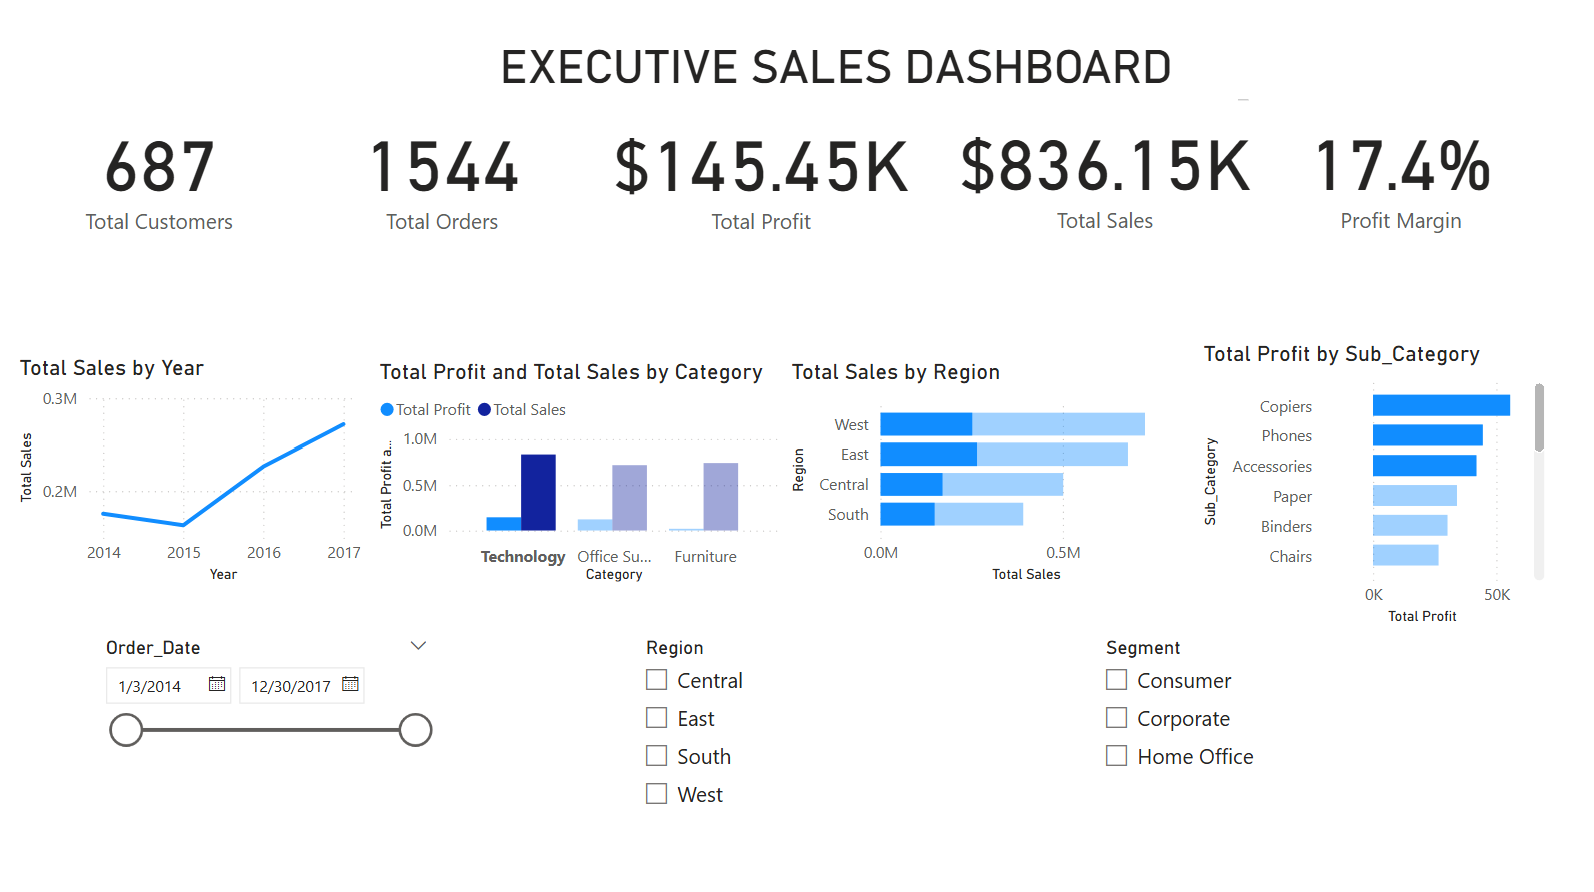

This screenshot's page, from the dashboard's own definition file:
{"tool":"powerbi","page":{"name":"Executive Sales","canvas":[1280,720],"ordinal":0},"visuals":[{"type":"card","fields":{"Values":["Superstore.Total Customers"]},"box":[10.7,65.8,223.5,150],"z":0},{"type":"card","fields":{"Values":["Superstore.Total Orders"]},"box":[234.3,65.8,209.8,150],"z":1},{"type":"card","fields":{"Values":["Superstore.Total Profit"]},"box":[444,65.8,278.7,150],"z":2},{"type":"card","fields":{"Values":["Superstore.Total Sales"]},"box":[722.7,65.8,248,148.5],"z":3},{"type":"card","fields":{"Values":["Superstore.Profit Margin"]},"box":[961.5,65.8,223.5,148.5],"z":4},{"type":"lineChart","fields":{"Category":["Superstore.Order_Date.Variation.Date Hierarchy.Year","Superstore.Order_Date.Variation.Date Hierarchy.Quarter","Superstore.Order_Date.Variation.Date Hierarchy.Month","Superstore.Order_Date.Variation.Date Hierarchy.Day"],"Y":["Superstore.Total Sales"]},"box":[10.7,281.7,271,177.6],"z":5},{"type":"clusteredColumnChart","fields":{"Category":["Superstore.Category"],"Y":["Superstore.Total Profit","Superstore.Total Sales"]},"box":[286.3,284.8,315.4,174.5],"z":6},{"type":"barChart","fields":{"Category":["Superstore.Region"],"Y":["Superstore.Total Sales"]},"box":[601.7,284.8,315.4,174.5],"z":7},{"type":"barChart","fields":{"Category":["Superstore.Sub_Category"],"Y":["Superstore.Total Profit"]},"box":[917.1,271,271,220.5],"z":8},{"type":"slicer","fields":{"Values":["Superstore.Order_Date"]},"box":[68.9,491.5,271,177.6],"z":9},{"type":"slicer","fields":{"Values":["Superstore.Region"]},"box":[482.3,491.5,315.4,177.6],"z":10},{"type":"slicer","fields":{"Values":["Superstore.Segment"]},"box":[834.4,491.5,271,177.6],"z":11},{"type":"textbox","title":"EXECUTIVE SALES DASHBOARD","box":[320,39.8,641.5,52.1],"z":12}]}

Visuals, with their boxes in screenshot pixels (x1, y1, x2, y2), scaled from the page's 1280x720 canvas onto the 1594x892 screenshot:
card - Superstore.Total Customers: (left=13, top=82, right=292, bottom=267)
card - Superstore.Total Orders: (left=292, top=82, right=553, bottom=267)
card - Superstore.Total Profit: (left=553, top=82, right=900, bottom=267)
card - Superstore.Total Sales: (left=900, top=82, right=1209, bottom=265)
card - Superstore.Profit Margin: (left=1197, top=82, right=1476, bottom=265)
lineChart - Superstore.Order_Date.Variation.Date Hierarchy.Year x Superstore.Order_Date.Variation.Date Hierarchy.Quarter: (left=13, top=349, right=351, bottom=569)
clusteredColumnChart - Superstore.Category x Superstore.Total Profit: (left=357, top=353, right=749, bottom=569)
barChart - Superstore.Region x Superstore.Total Sales: (left=749, top=353, right=1142, bottom=569)
barChart - Superstore.Sub_Category x Superstore.Total Profit: (left=1142, top=336, right=1480, bottom=609)
slicer - Superstore.Order_Date: (left=86, top=609, right=423, bottom=829)
slicer - Superstore.Region: (left=601, top=609, right=993, bottom=829)
slicer - Superstore.Segment: (left=1039, top=609, right=1377, bottom=829)
"EXECUTIVE SALES DASHBOARD" textbox: (left=398, top=49, right=1197, bottom=114)
